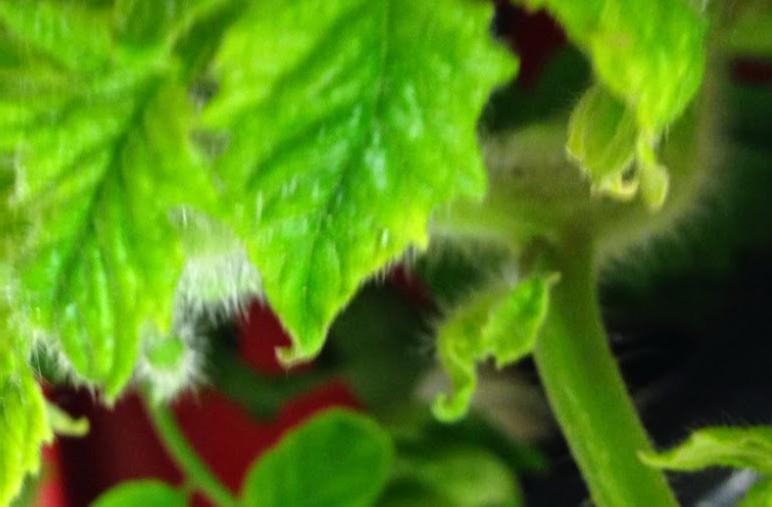Tomato leaf yellow virus: (230, 0, 528, 381), (1, 0, 211, 464), (481, 0, 709, 244)
